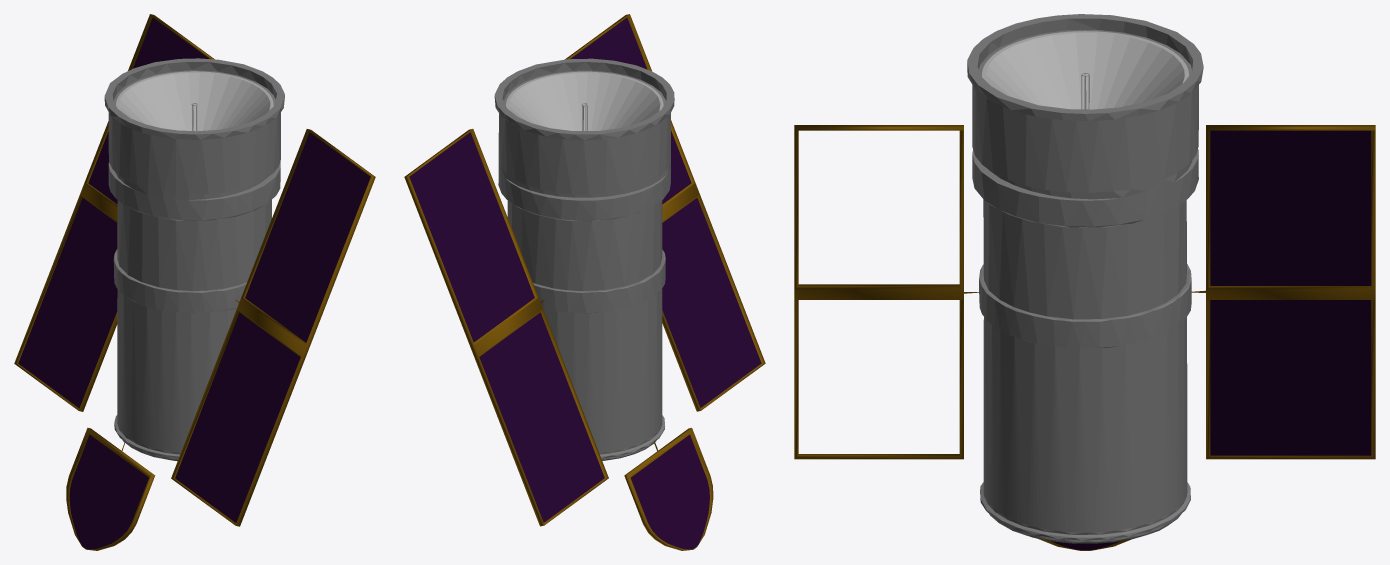
Rendered from hubble-min2.glb.
3 views of the same model, side by side, from view 1: azimuth 30°, elevation 25°; view 2: azimuth 150°, elevation 25°; view 3: azimuth 270°, elevation 25° (orthographic). The views are drawn at different scales.
Parts seen in each view (by area): view 1: Cylinder, Plane.001, Plane, Cylinder.001, Plane.002, Cube.001, Cube, Cube.002; view 2: Cylinder, Plane, Plane.001, Cylinder.001, Plane.002, Cube, Cube.001, Cube.002; view 3: Cylinder, Plane, Cylinder.001, Cube.001, Cube.
Boxes of the visible parts, x1=… form: Cylinder: x1=104, y1=58, x2=284, y2=461; Plane.001: x1=175, y1=132, x2=370, y2=522; Plane: x1=18, y1=17, x2=208, y2=408; Cylinder.001: x1=116, y1=71, x2=273, y2=131; Plane.002: x1=69, y1=434, x2=148, y2=549; Cube.001: x1=171, y1=129, x2=375, y2=526; Cube: x1=14, y1=14, x2=214, y2=411; Cube.002: x1=66, y1=427, x2=155, y2=550; Cylinder: x1=494, y1=58, x2=674, y2=460; Plane: x1=409, y1=132, x2=604, y2=522; Plane.001: x1=570, y1=17, x2=761, y2=407; Cylinder.001: x1=506, y1=71, x2=663, y2=130; Plane.002: x1=631, y1=434, x2=709, y2=549; Cube: x1=404, y1=129, x2=608, y2=526; Cube.001: x1=565, y1=14, x2=765, y2=411; Cube.002: x1=624, y1=428, x2=713, y2=550; Cylinder: x1=967, y1=14, x2=1203, y2=543; Plane: x1=1210, y1=130, x2=1371, y2=455; Cylinder.001: x1=982, y1=31, x2=1188, y2=109; Cube.001: x1=794, y1=125, x2=979, y2=459; Cube: x1=1191, y1=125, x2=1375, y2=459.
Size of the model in its own units: 2.53 by 5.44 by 5.14.
